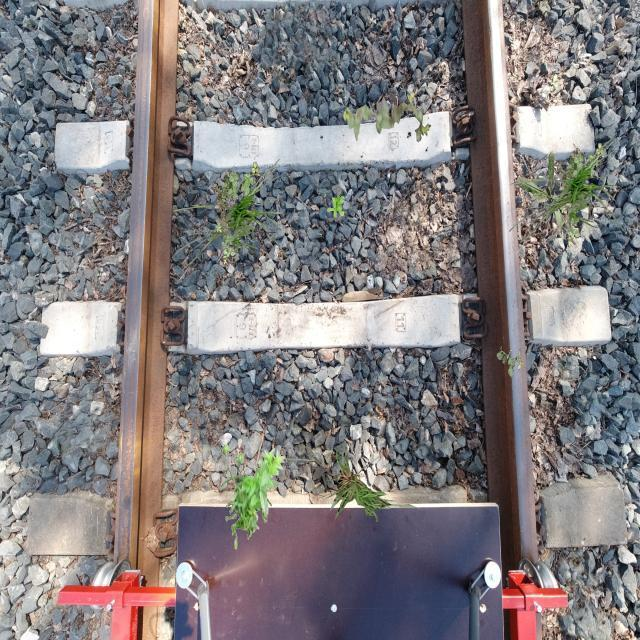Plant: (509, 133, 628, 256), (172, 159, 290, 282), (282, 435, 426, 525), (221, 442, 286, 550), (516, 152, 580, 236), (557, 143, 606, 247), (212, 162, 260, 266), (343, 91, 430, 142), (497, 346, 524, 376), (327, 194, 344, 218)
